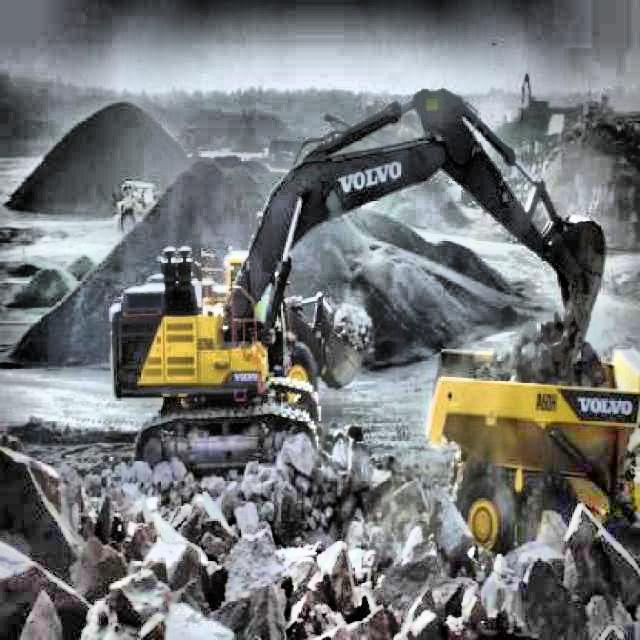dump_truck: (426, 342, 639, 552)
excavator: (108, 88, 610, 470)
